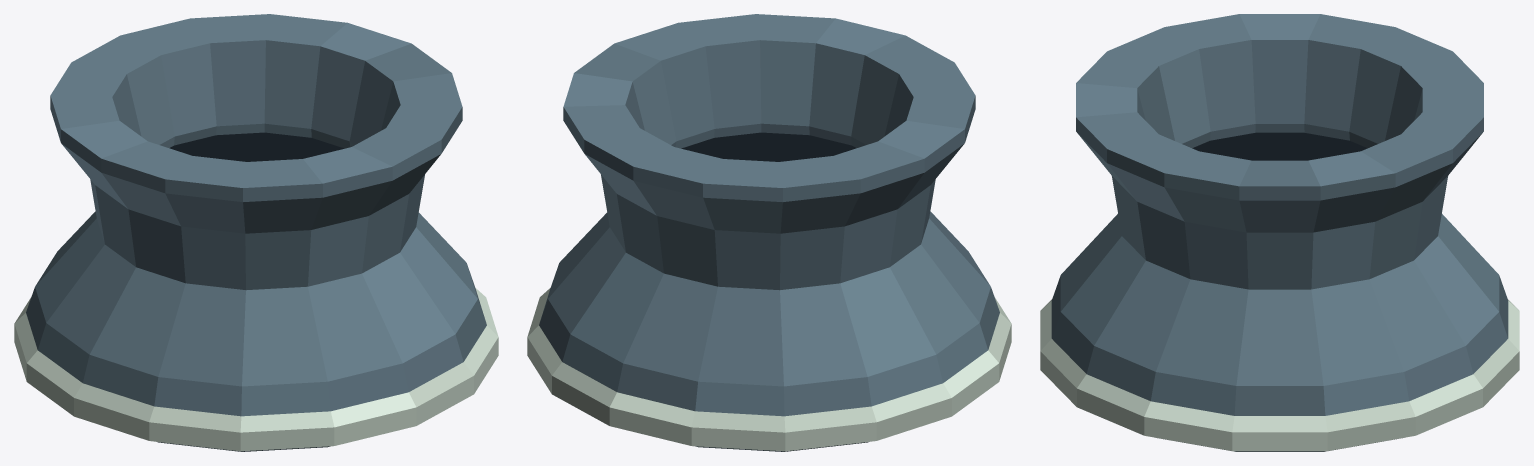
Rendered from ER_BellTail.fbx.
3 views of the same model, side by side, from view 1: azimuth 30°, elevation 25°; view 2: azimuth 150°, elevation 25°; view 3: azimuth 270°, elevation 25° (orthographic).
Parts seen in each view (by area): view 1: ER_BellTail; view 2: ER_BellTail; view 3: ER_BellTail.
Boxes of the visible parts, <box> form: ER_BellTail: <box>14,14,498,451</box>; ER_BellTail: <box>527,14,1011,451</box>; ER_BellTail: <box>1040,14,1519,451</box>.
Size of the model in its own units: 0.9219 by 0.55 by 0.9219.
